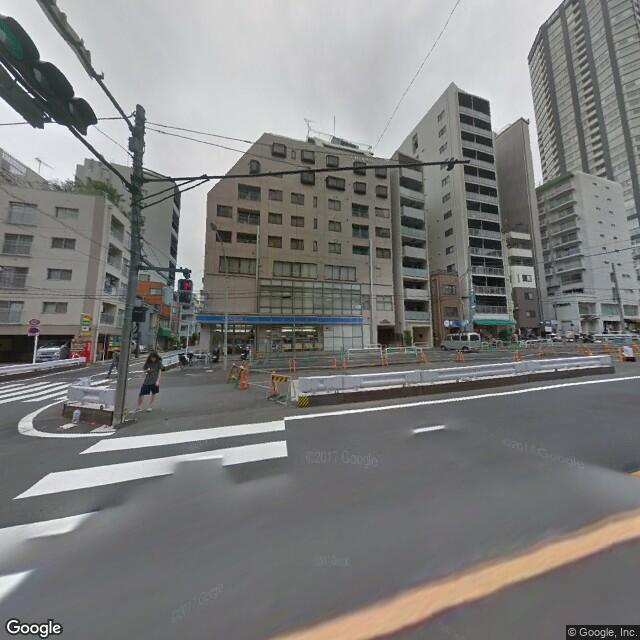lawson: (193, 307, 366, 328)
